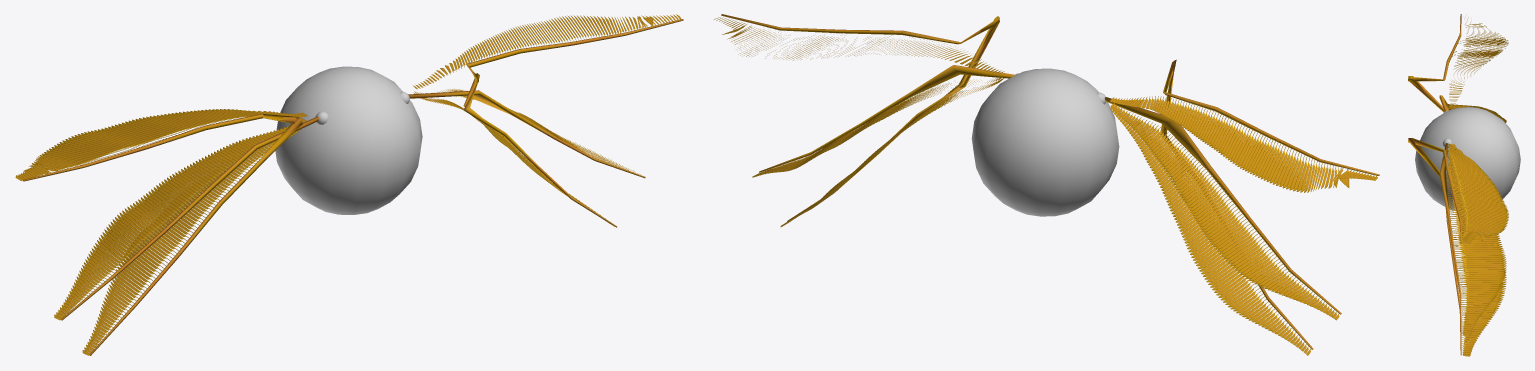
3 renders of one model, left to right at view 1: azimuth 30°, elevation 25°; view 2: azimuth 150°, elevation 25°; view 3: azimuth 270°, elevation 25°, orthographic. The views are drawn at different scales.
Visible parts, largest first — view 1: Ala2, Sphere.005; view 2: Ala2, Sphere.005; view 3: Ala2, Sphere.005.
Boxes of the visible parts, x1,y1,x2,y2 form: Ala2: [15, 14, 683, 355]; Sphere.005: [275, 66, 422, 214]; Ala2: [714, 14, 1379, 355]; Sphere.005: [971, 68, 1119, 216]; Ala2: [1408, 14, 1508, 356]; Sphere.005: [1415, 107, 1520, 210].
Size of the model in its own units: 10.9 by 3.5 by 2.26.
Materials: 3 (2 with a texture image).
